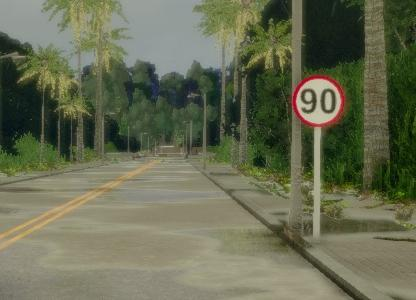Speed_90: (291, 74, 346, 128)
